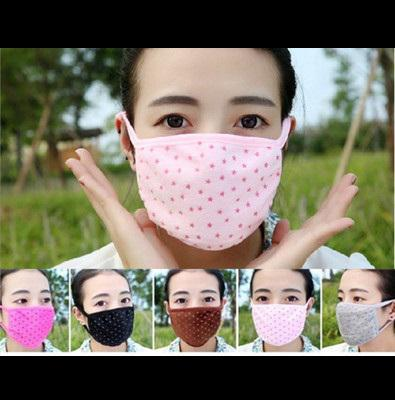OK: (129, 87, 289, 247), (254, 283, 309, 346), (338, 285, 395, 345), (168, 286, 223, 345), (5, 285, 55, 347), (85, 287, 135, 343)
